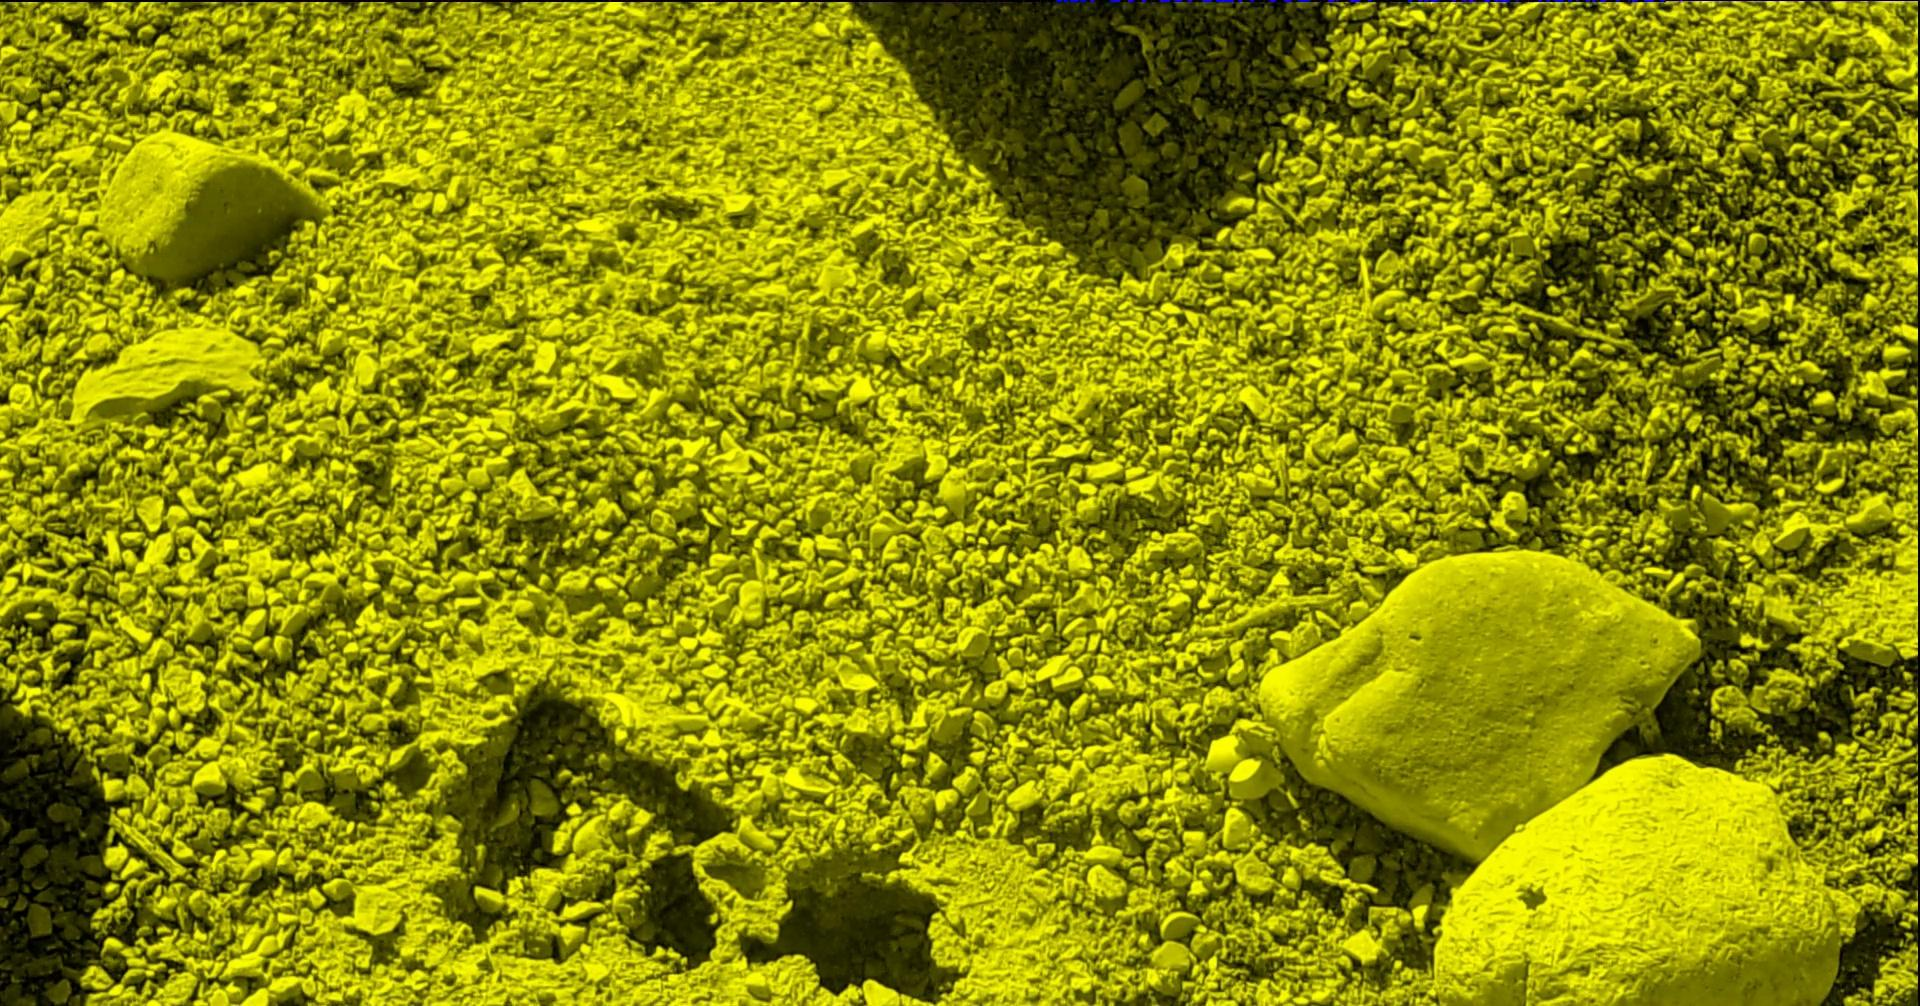ant: (1203, 0, 1244, 3), (1057, 0, 1096, 3)
